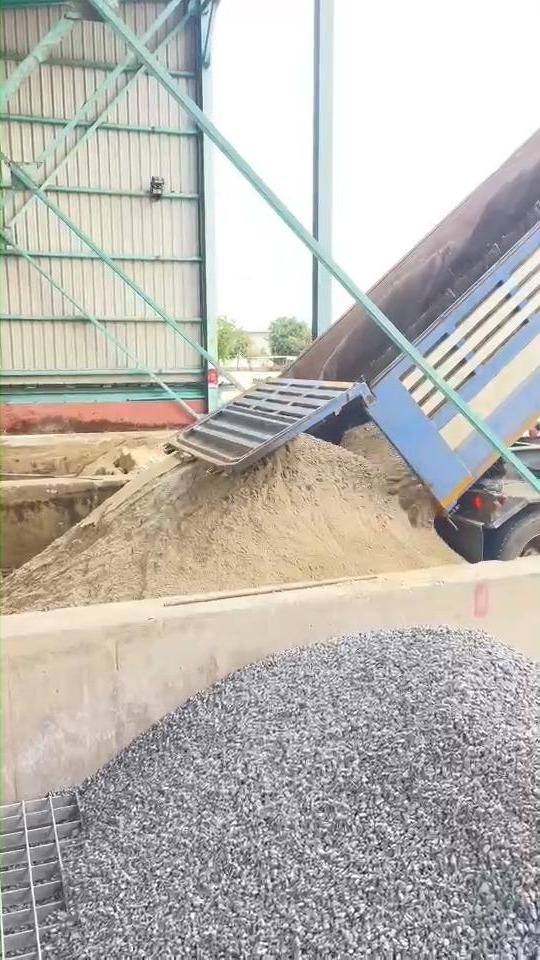gravel: (49, 627, 540, 959)
sand: (4, 436, 461, 612), (343, 423, 441, 530), (81, 441, 164, 474)
